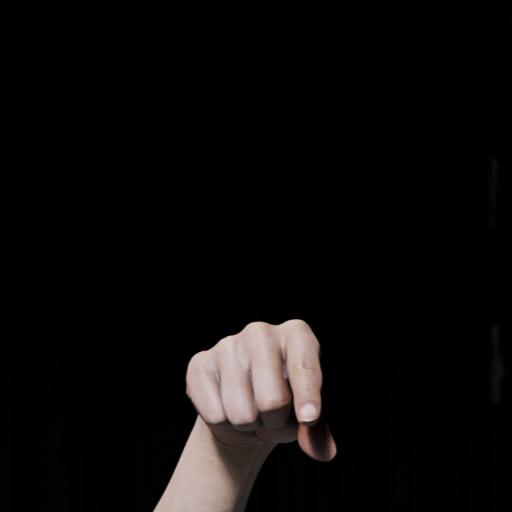Q: (178, 311, 346, 485)
